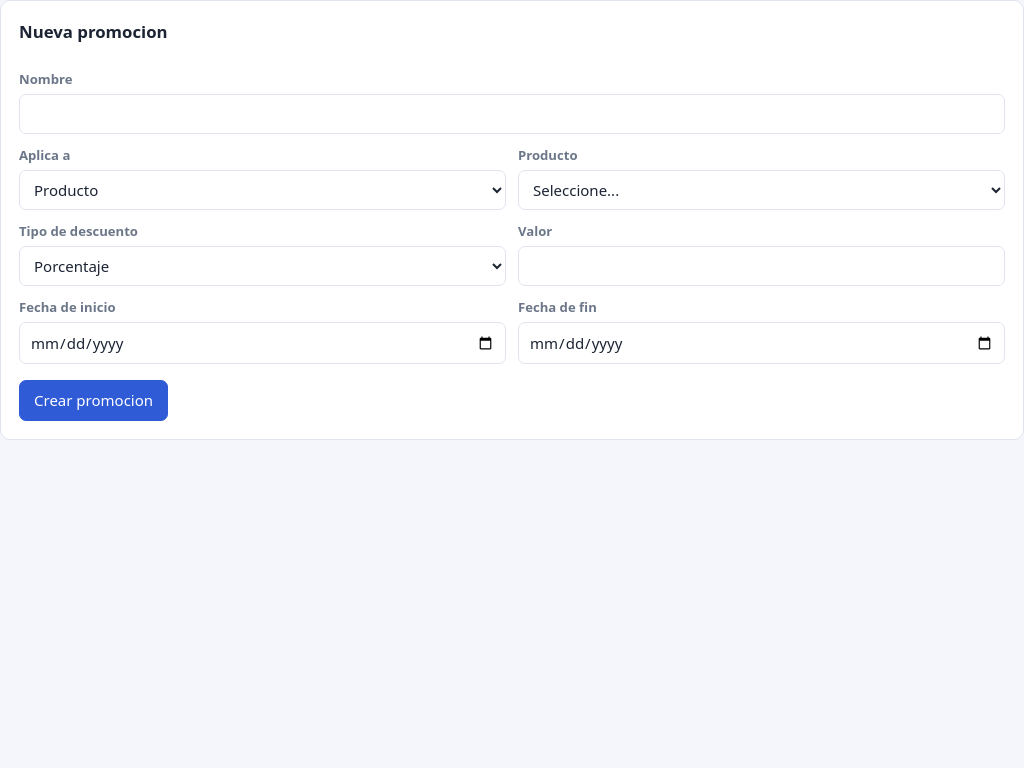
it: PromotionForm › no envia y muestra los errores cuando faltan datos obligatorios
Click the button "Crear promocion": click(94, 401) [19,380,168,421]
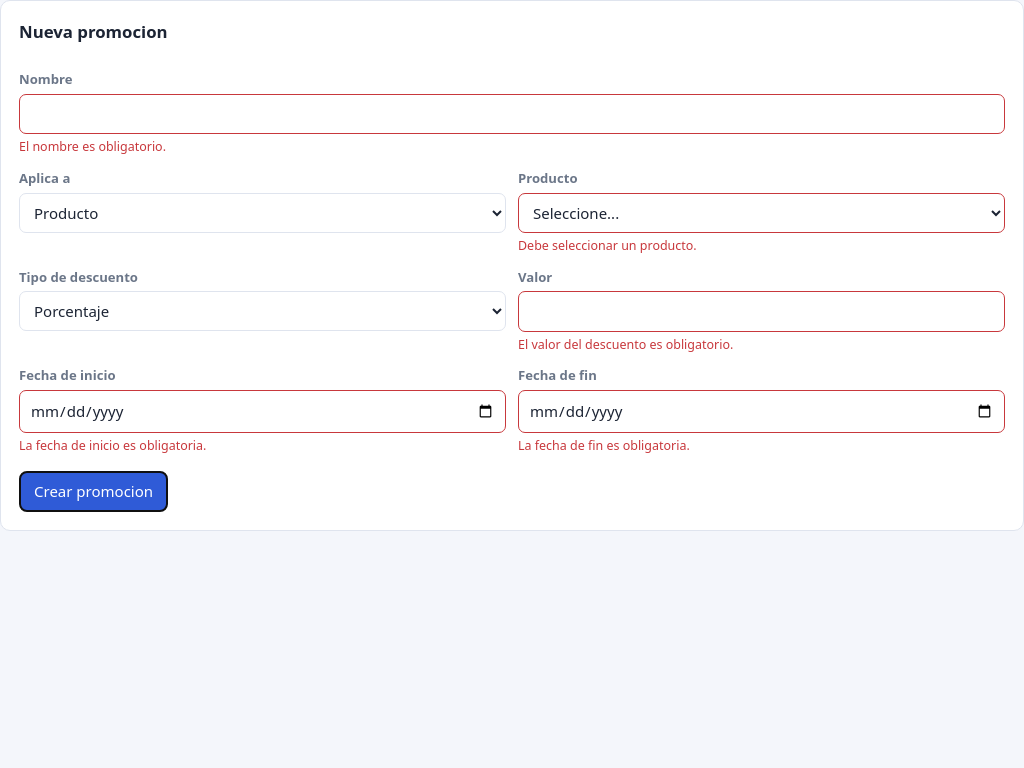
Check: the text "El nombre es obligatorio." is shown, box [19,138,166,155]
Check: the text "Debe seleccionar un producto." is shown, box [518,237,697,254]
